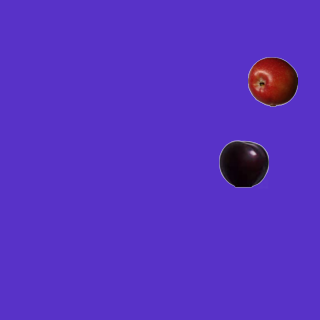Apple Braeburn: (247, 56, 297, 106)
Cherry Wax Black: (218, 138, 268, 188)
